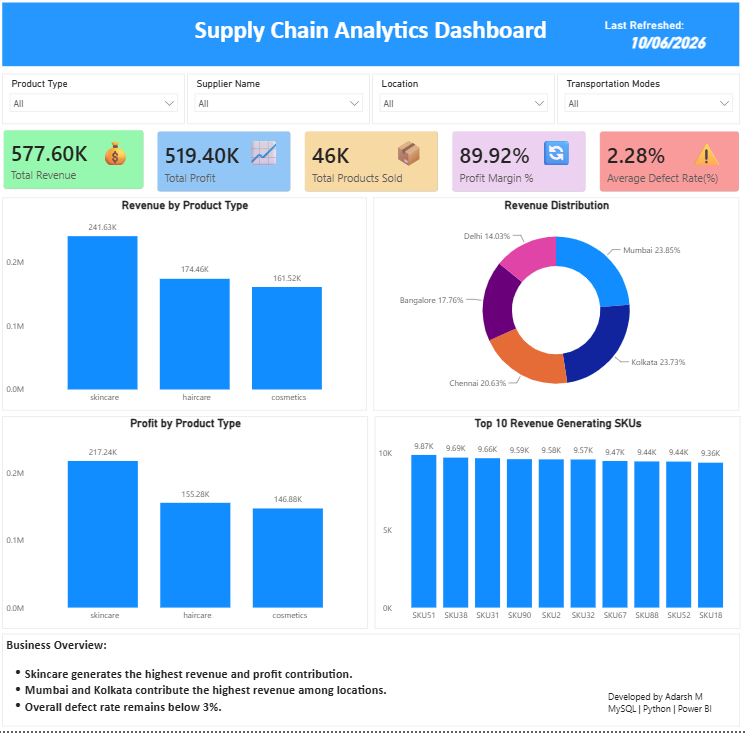

This screenshot's page, from the dashboard's own definition file:
{"tool":"powerbi","page":{"name":"Summary","canvas":[1123,1100],"ordinal":0},"visuals":[{"type":"textbox","box":[10,11.7,1101.7,95],"z":0,"group":"g1"},{"type":"cardVisual","fields":{"Data":["MeasuresTable.Total Revenue"]},"box":[1.2,192.2,228.1,107.9],"z":0},{"type":"cardVisual","fields":{"Data":["MeasuresTable.Total Profit"]},"box":[230.9,193.5,218,109.8],"z":1000},{"type":"cardVisual","fields":{"Data":["MeasuresTable.Total Products Sold"]},"box":[451.7,193.5,218,109.8],"z":2000},{"type":"cardVisual","fields":{"Data":["MeasuresTable.Profit Margin %"]},"box":[672.6,193.5,218,109.8],"z":3000},{"type":"cardVisual","fields":{"Data":["MeasuresTable.Average Defect Rate"]},"box":[893.3,193.5,227.8,109.8],"z":4000},{"type":"clusteredColumnChart","title":"Revenue by Product Type","fields":{"Category":["supplychain supply_chain.product_type"],"Y":["Sum(supplychain supply_chain.revenue_generated)"]},"box":[10,303.3,545,318.3],"z":5000},{"type":"clusteredColumnChart","title":"Profit by Product Type","fields":{"Y":["Sum(supplychain vw_profit_analysis.profit)"],"Category":["supplychain vw_profit_analysis.product_type"]},"box":[9,629,546.7,317.4],"z":6000},{"type":"textbox","box":[366.4,205.8,68.6,60.4],"z":7000},{"type":"card","title":"Last Refreshed:","fields":{"Values":["Min(Last refresh date.Last Refreshed)"]},"box":[910,36.7,186.7,46.7],"z":8000,"group":"g1"},{"type":"slicer","fields":{"Values":["supplychain supply_chain.product_type"]},"box":[9.6,118,273,75.5],"z":8000},{"type":"slicer","fields":{"Values":["supplychain supply_chain.supplier_name"]},"box":[285.9,118,273,75.5],"z":9000},{"type":"slicer","fields":{"Values":["supplychain supply_chain.location"]},"box":[562.2,118,273,75.5],"z":10000},{"type":"slicer","fields":{"Values":["supplychain supply_chain.transportation_modes"]},"box":[838.4,118,273.1,75.5],"z":11000},{"type":"textbox","box":[144.1,205.8,68.6,60.4],"z":12000},{"type":"textbox","box":[583.2,205.8,68.6,60.4],"z":13000},{"type":"textbox","box":[804.1,205.8,68.6,60.4],"z":14000},{"type":"textbox","box":[1027.8,205.8,68.6,60.4],"z":15000},{"type":"donutChart","title":"Revenue Distribution","fields":{"Y":["Sum(supplychain supply_chain.revenue_generated)"],"Category":["supplychain supply_chain.location"]},"box":[565,303.3,546.7,318.3],"z":16000},{"type":"clusteredColumnChart","title":"Top 10 Revenue Generating SKUs","fields":{"Category":["supplychain supply_chain.sku"],"Y":["Sum(supplychain supply_chain.revenue_generated)"]},"box":[565.3,629,546.7,317.4],"z":17000},{"type":"group","id":"g1","title":"Group 1","box":[10,11.7,1101.7,95],"z":18000},{"type":"textbox","box":[10,954,1102,138],"z":19000},{"type":"textbox","box":[909.9,1035.4,187.2,46],"z":20000}]}

Visuals, with their boxes in screenshot pixels (x1, y1, x2, y2), scaled from the page's 1123x1100 canvas onto the 745x736 screenshot:
textbox: bbox=(7, 8, 738, 71)
cardVisual - MeasuresTable.Total Revenue: bbox=(1, 129, 152, 201)
cardVisual - MeasuresTable.Total Profit: bbox=(153, 129, 298, 203)
cardVisual - MeasuresTable.Total Products Sold: bbox=(300, 129, 444, 203)
cardVisual - MeasuresTable.Profit Margin %: bbox=(446, 129, 591, 203)
cardVisual - MeasuresTable.Average Defect Rate: bbox=(593, 129, 744, 203)
"Revenue by Product Type" clusteredColumnChart: bbox=(7, 203, 368, 416)
"Profit by Product Type" clusteredColumnChart: bbox=(6, 421, 369, 633)
textbox: bbox=(243, 138, 289, 178)
"Last Refreshed:" card: bbox=(604, 25, 728, 56)
slicer - supplychain supply_chain.product_type: bbox=(6, 79, 187, 129)
slicer - supplychain supply_chain.supplier_name: bbox=(190, 79, 371, 129)
slicer - supplychain supply_chain.location: bbox=(373, 79, 554, 129)
slicer - supplychain supply_chain.transportation_modes: bbox=(556, 79, 737, 129)
textbox: bbox=(96, 138, 141, 178)
textbox: bbox=(387, 138, 432, 178)
textbox: bbox=(533, 138, 579, 178)
textbox: bbox=(682, 138, 727, 178)
"Revenue Distribution" donutChart: bbox=(375, 203, 738, 416)
"Top 10 Revenue Generating SKUs" clusteredColumnChart: bbox=(375, 421, 738, 633)
"Group 1" group: bbox=(7, 8, 738, 71)
textbox: bbox=(7, 638, 738, 731)
textbox: bbox=(604, 693, 728, 724)
